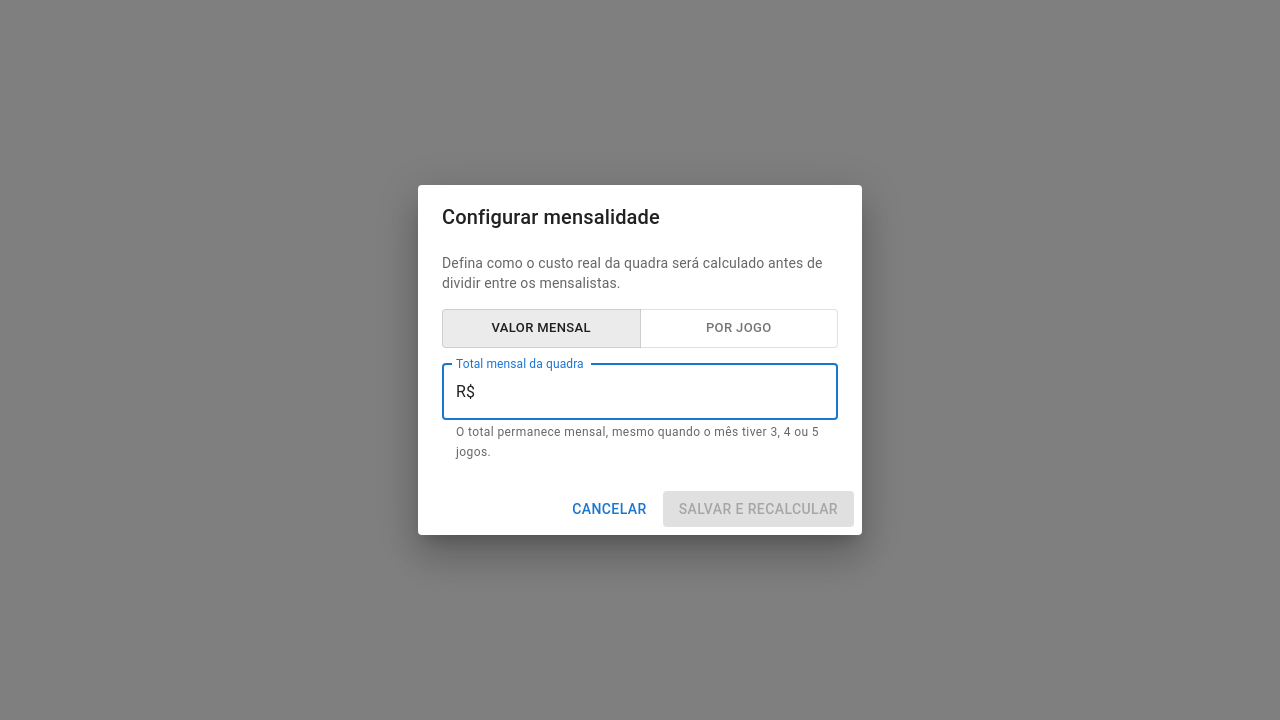
MonthlyFinanceConfigDialog › rejeita zero como custo padrão e orienta deixar vazio
Step 1. Click the button "Por jogo" → coordinates (739, 328), box x1=640 y1=309 x2=838 y2=348
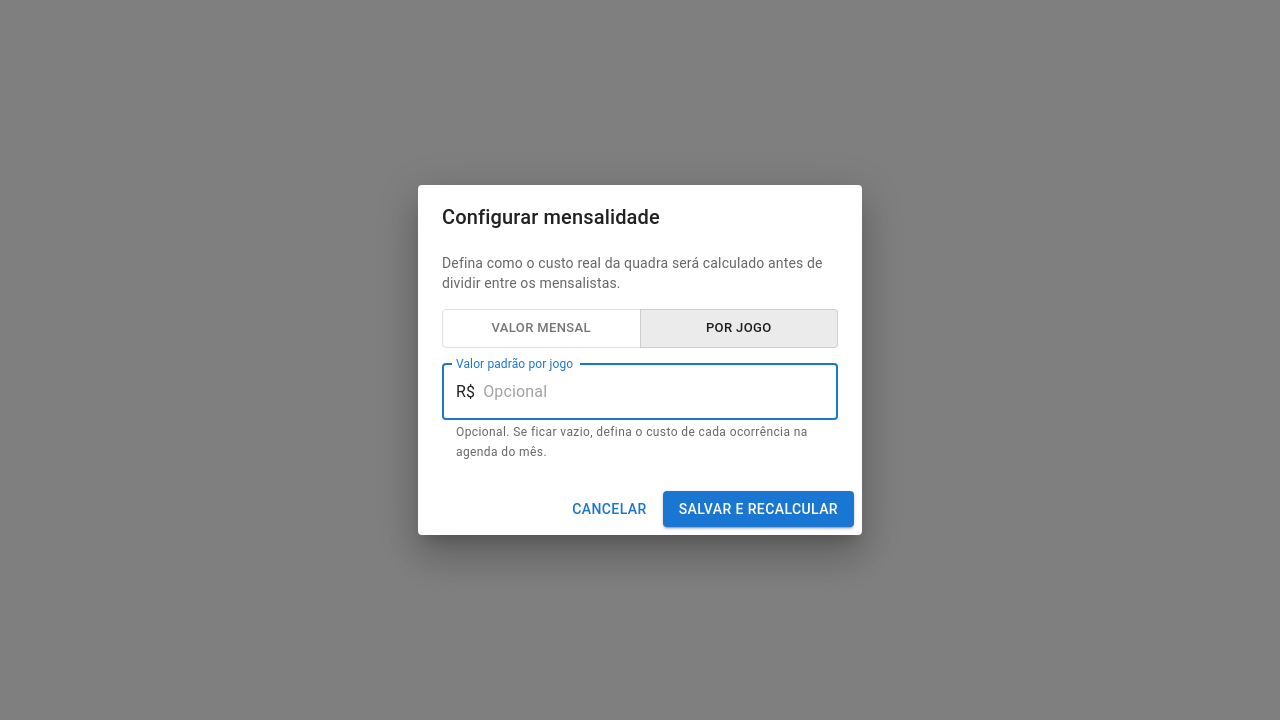
Step 2. Type "0" into the field named "Valor da quadra" → coordinates (661, 392), box x1=483 y1=364 x2=838 y2=420
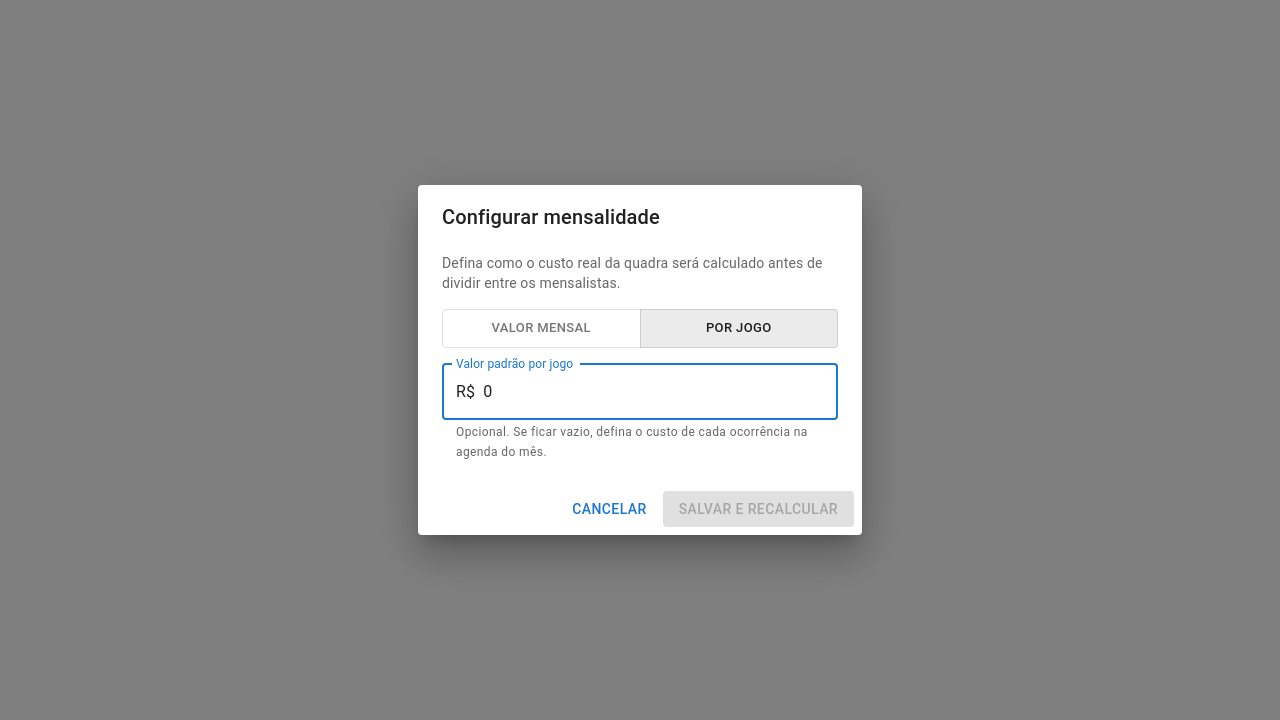
Step 3. Leave the field named "Valor da quadra", box x1=483 y1=364 x2=838 y2=420
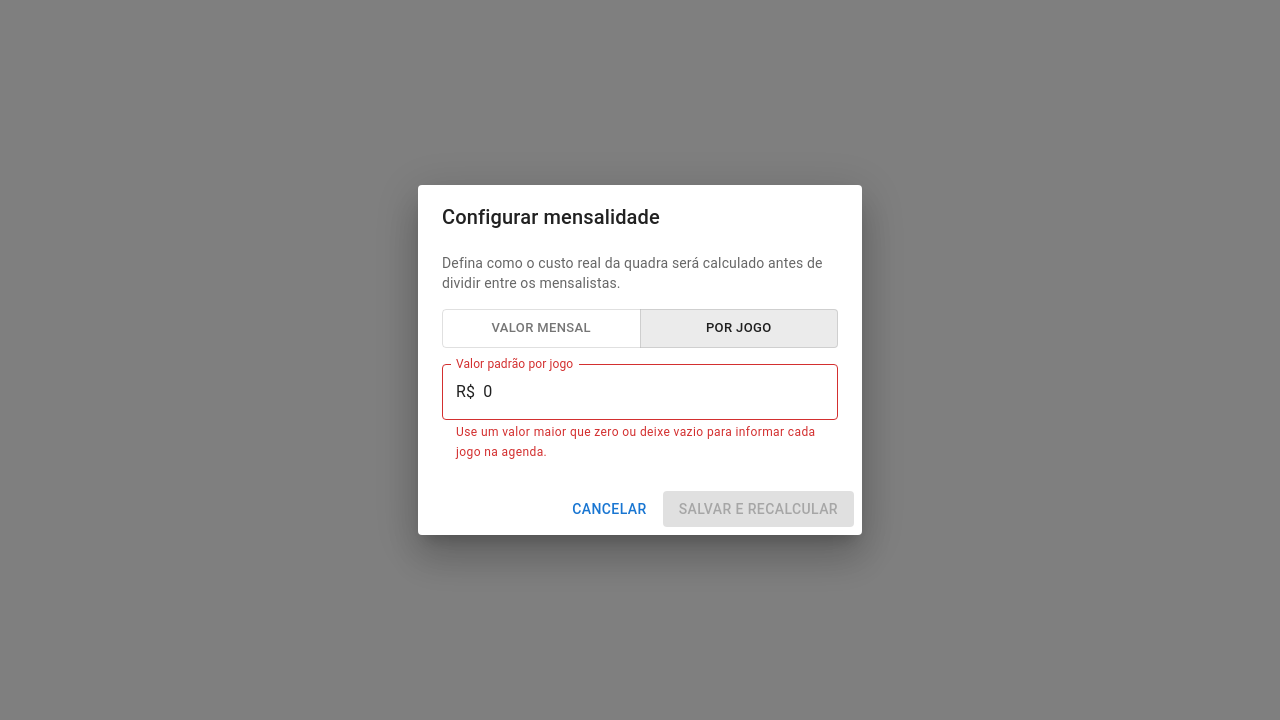
Now the button "Salvar e recalcular" is disabled, box x1=663 y1=490 x2=854 y2=527
Now the text "maior que zero ou deixe vazio" is shown, box x1=456 y1=425 x2=816 y2=459
